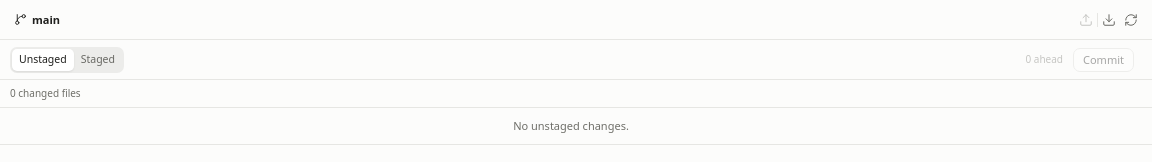
Test: ChangesPanel status states › keeps pull available without a behind count and disables it without an upstream
Click the button named "Pull from remote" at (1109, 20), box [1098,8,1120,30]
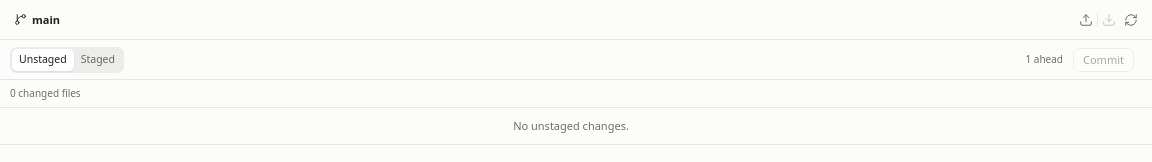
Expected: the button named "Pull from remote" is disabled, [1098,8,1120,30]
